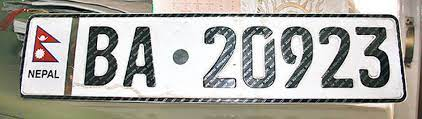number_plate: (27, 19, 391, 93)
